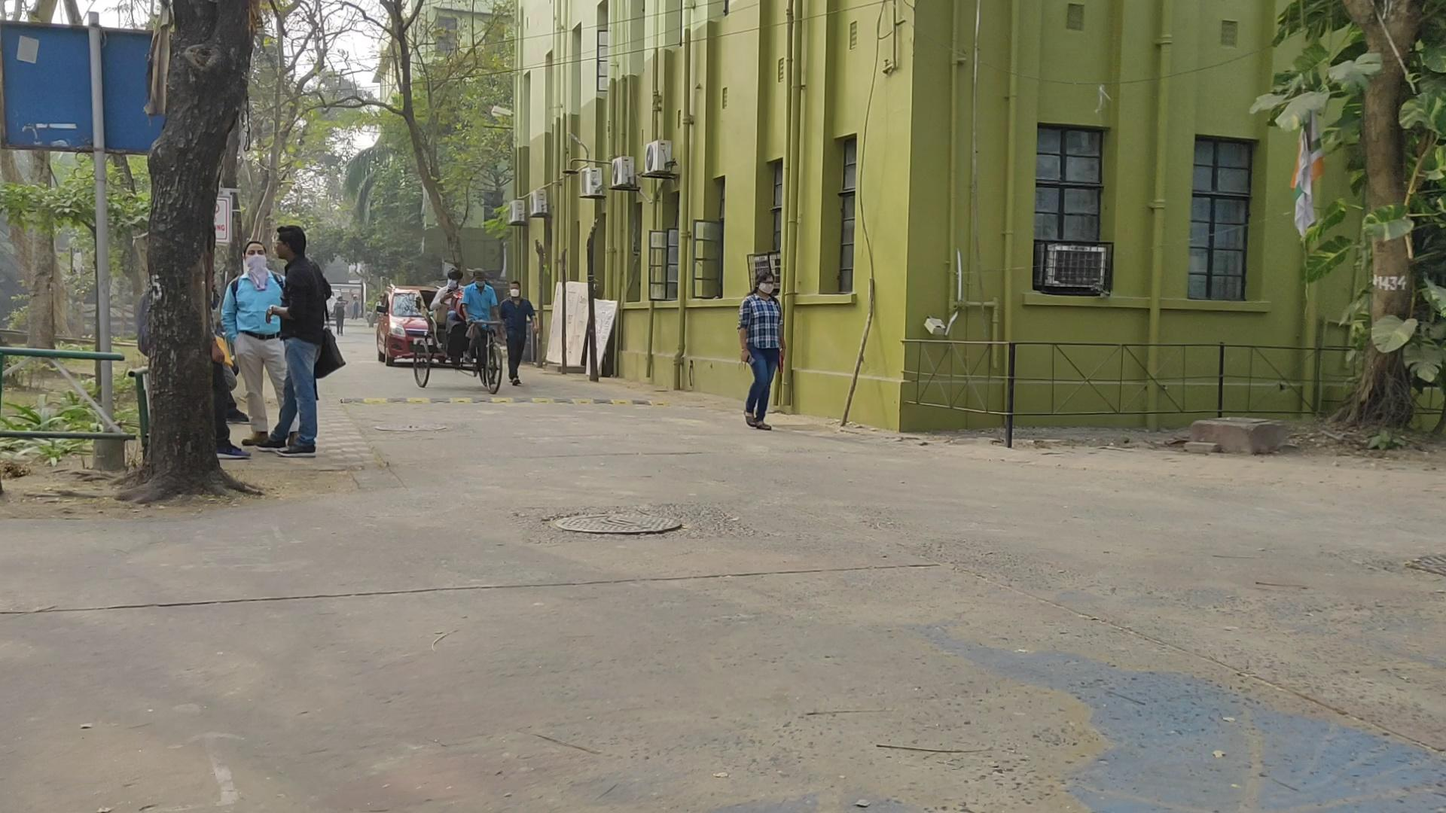car: (374, 282, 435, 368)
